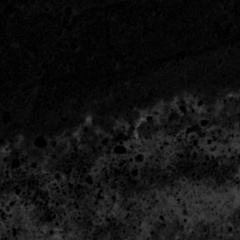Vegetation: (143, 191, 240, 228), (1, 192, 57, 239), (142, 138, 240, 158), (97, 190, 138, 230)
